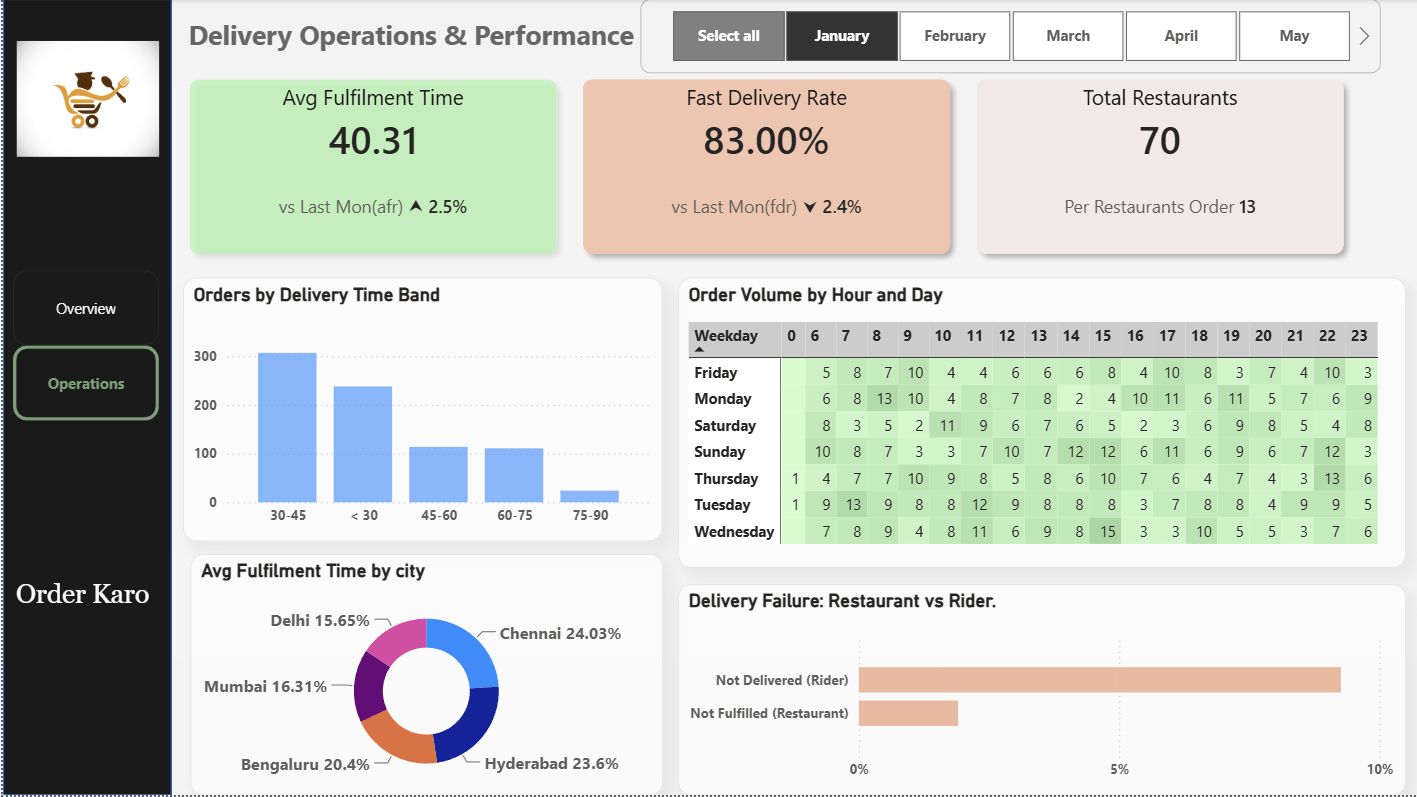

Layout of this report page (visuals, bound fields, positions):
{"tool":"powerbi","page":{"name":"Operations","canvas":[1280,720],"ordinal":1},"visuals":[{"type":"shape","box":[0,0,152.6,720.2],"z":0,"group":"g1"},{"type":"group","id":"g1","title":"Group 1","box":[0,0,152.6,720.2],"z":0},{"type":"image","box":[12.4,20.4,128.9,140.2],"z":1000},{"type":"cardVisual","fields":{"Data":["fooddelivery deliveries.Avg Fulfilment Time","fooddelivery deliveries.Fast Delivery Rate","fooddelivery restaurants.Total Restaurants"]},"box":[144.6,48.2,1092.6,206.2],"z":2000},{"type":"columnChart","title":"Orders by Delivery Time Band","fields":{"Category":["fooddelivery deliveries.Time Band"],"Y":["fooddelivery deliveries.Delivered Count"]},"box":[163.3,251.7,433.8,238.3],"z":3000},{"type":"donutChart","fields":{"Category":["fooddelivery restaurants.city"],"Y":["fooddelivery deliveries.Avg Fulfilment Time"]},"box":[169.6,502,427.4,218.2],"z":4000},{"type":"textbox","box":[6.7,519.5,137.9,48.2],"z":5000},{"type":"pivotTable","title":"Order Volume by Hour and Day","fields":{"Columns":["fooddelivery orders.Order Hour"],"Rows":["fooddelivery orders.DayOfWeekNumber"],"Values":["fooddelivery orders.countorderid"]},"box":[610.6,252.1,658,262.3],"z":7000},{"type":"textbox","box":[162.7,11.6,424.9,54.2],"z":7001},{"type":"slicer","fields":{"Values":["DateTable.Date.Variation.Date Hierarchy.Month"]},"box":[577.1,0,669.5,66.9],"z":7002},{"type":"barChart","title":"Delivery Failure: Restaurant vs Rider.","fields":{"Category":["Failure Stages.Stage"],"Y":["Failure Stages.Failure Rate by Stage"]},"box":[610.6,529.1,658,191.1],"z":7003},{"type":"pageNavigator","box":[9,245.4,132.3,137.9],"z":8000,"group":"g1"}]}

Visuals, with their boxes on the page's 1280x720 design canvas (x1, y1, x2, y2). These are canvas units, not pixel positions in the 1417x797 screenshot, which may show the page scaled, cropped or inside an application window:
shape: pyautogui.locateOnScreen(0, 0, 153, 720)
"Group 1" group: pyautogui.locateOnScreen(0, 0, 153, 720)
image: pyautogui.locateOnScreen(12, 20, 141, 161)
cardVisual - fooddelivery deliveries.Avg Fulfilment Time x fooddelivery deliveries.Fast Delivery Rate: pyautogui.locateOnScreen(145, 48, 1237, 254)
"Orders by Delivery Time Band" columnChart: pyautogui.locateOnScreen(163, 252, 597, 490)
donutChart - fooddelivery restaurants.city x fooddelivery deliveries.Avg Fulfilment Time: pyautogui.locateOnScreen(170, 502, 597, 720)
textbox: pyautogui.locateOnScreen(7, 520, 145, 568)
"Order Volume by Hour and Day" pivotTable: pyautogui.locateOnScreen(611, 252, 1269, 514)
textbox: pyautogui.locateOnScreen(163, 12, 588, 66)
slicer - DateTable.Date.Variation.Date Hierarchy.Month: pyautogui.locateOnScreen(577, 0, 1247, 67)
"Delivery Failure: Restaurant vs Rider." barChart: pyautogui.locateOnScreen(611, 529, 1269, 720)
pageNavigator: pyautogui.locateOnScreen(9, 245, 141, 383)
